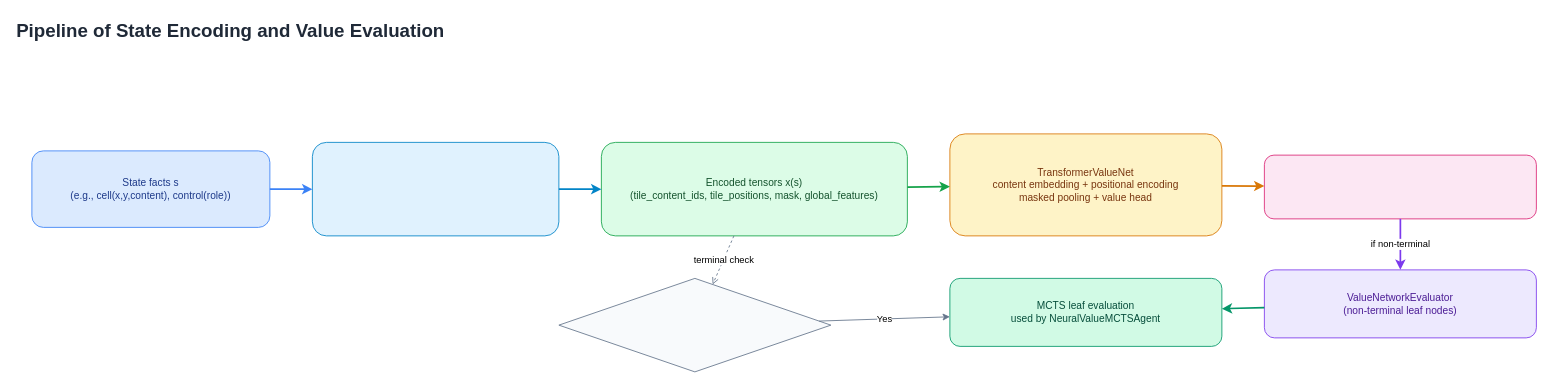
Image size: 1551x387. Some labels were removed from this diagram. Here are the shapes that lost their labels. From the top down, the box of each, then its label:
(312, 142, 559, 236): BoardTokenEncoder parse board facts + role + ply + terminal
(1264, 154, 1536, 219): Predicted value v_hat(s)=tanh(W h(s)+b)
(558, 278, 831, 372): Terminal state? Yes -> use rule-grounded goal(state, role)
